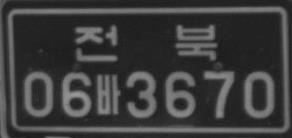0: (243, 69, 276, 120), (22, 70, 54, 118)
3: (125, 70, 158, 119)
6: (164, 70, 196, 117), (60, 70, 92, 116)
7: (203, 68, 236, 119)
바: (95, 73, 121, 115)
전북_D: (74, 23, 217, 61)
